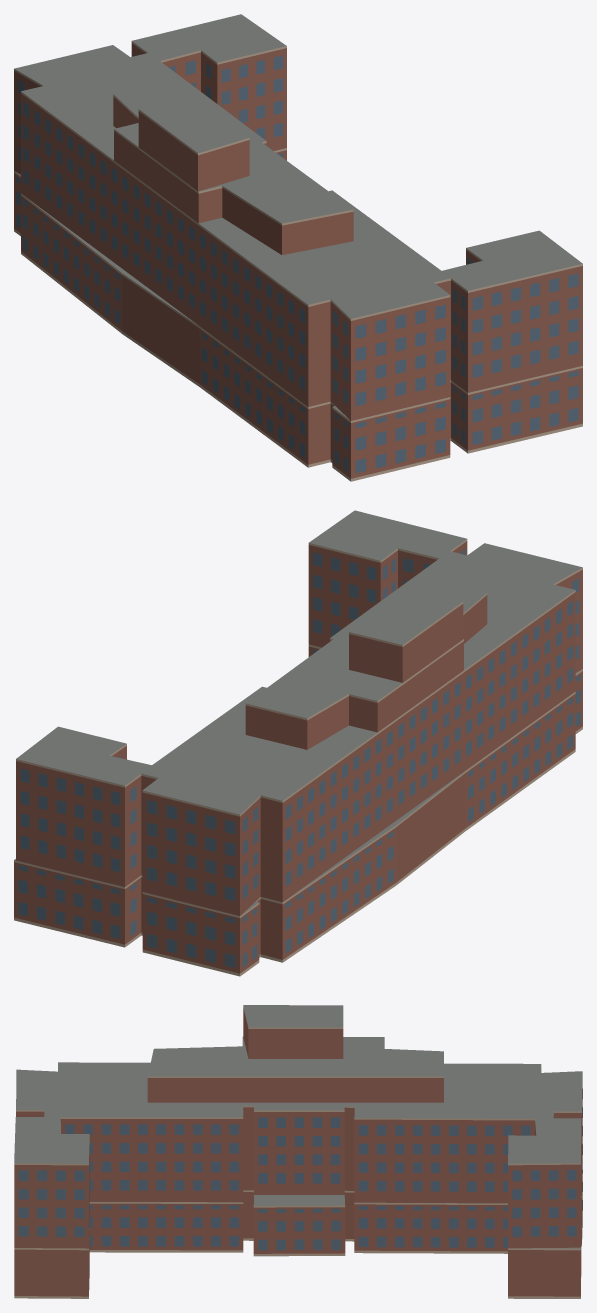
File: dc-au-anderson-hall.glb
3 views of the same model, one above another, from view 1: azimuth 30°, elevation 25°; view 2: azimuth 150°, elevation 25°; view 3: azimuth 270°, elevation 25° (orthographic). The views are drawn at different scales.
Parts seen in each view (by area): view 1: Anderson Hall; view 2: Anderson Hall; view 3: Anderson Hall.
Boxes of the visible parts, bbox=[...] form: Anderson Hall: bbox=[14, 14, 582, 481]; Anderson Hall: bbox=[14, 510, 582, 976]; Anderson Hall: bbox=[14, 1005, 582, 1298].
Bounding box in the file's own units: 40.93 × 36 × 96.09.
